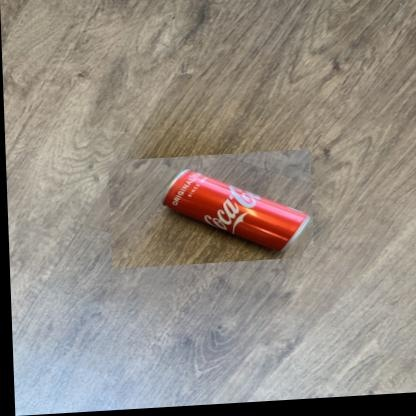trash: (163, 169, 309, 249)
